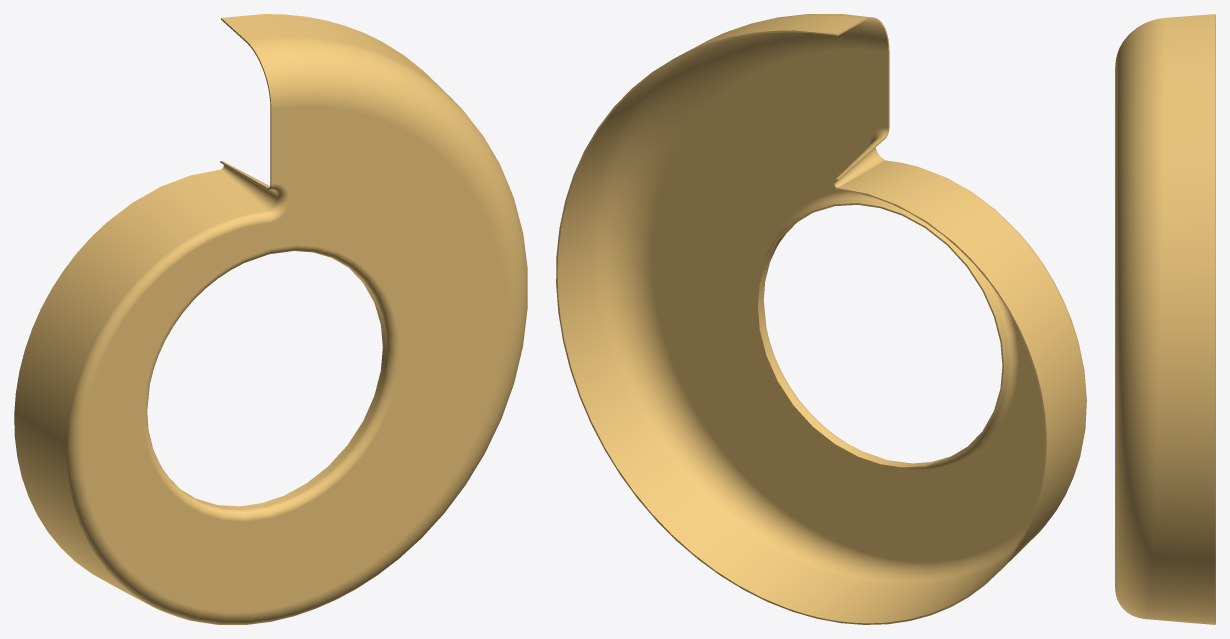
The model's file is Surface Modeling 1.fbx.
3 renders of one model, left to right at view 1: azimuth 30°, elevation 25°; view 2: azimuth 150°, elevation 25°; view 3: azimuth 270°, elevation 25°, orthographic. The views are drawn at different scales.
Visible parts, largest first — view 1: Body1; view 2: Body1; view 3: Body1.
Boxes of the visible parts, x1,y1,x2,y2 form: Body1: [14, 14, 527, 624]; Body1: [556, 14, 1086, 624]; Body1: [1115, 14, 1215, 624].
Bounding box in the file's own units: 301 × 345 × 54.88.
